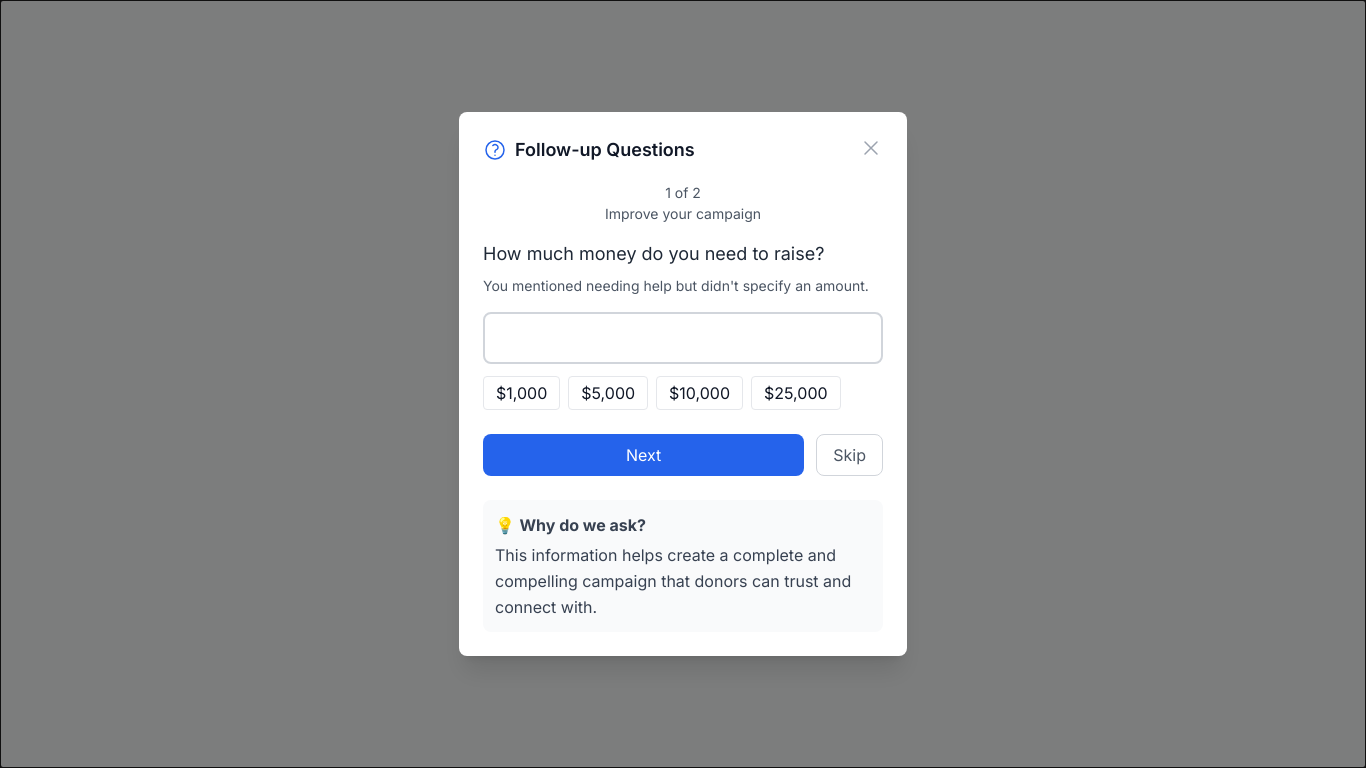
Test: FollowUpQuestionModal Component › Question Navigation › should navigate to next question when answered
Answer first question
Type "5000" into the field at (683, 338), box [483,312,883,364]
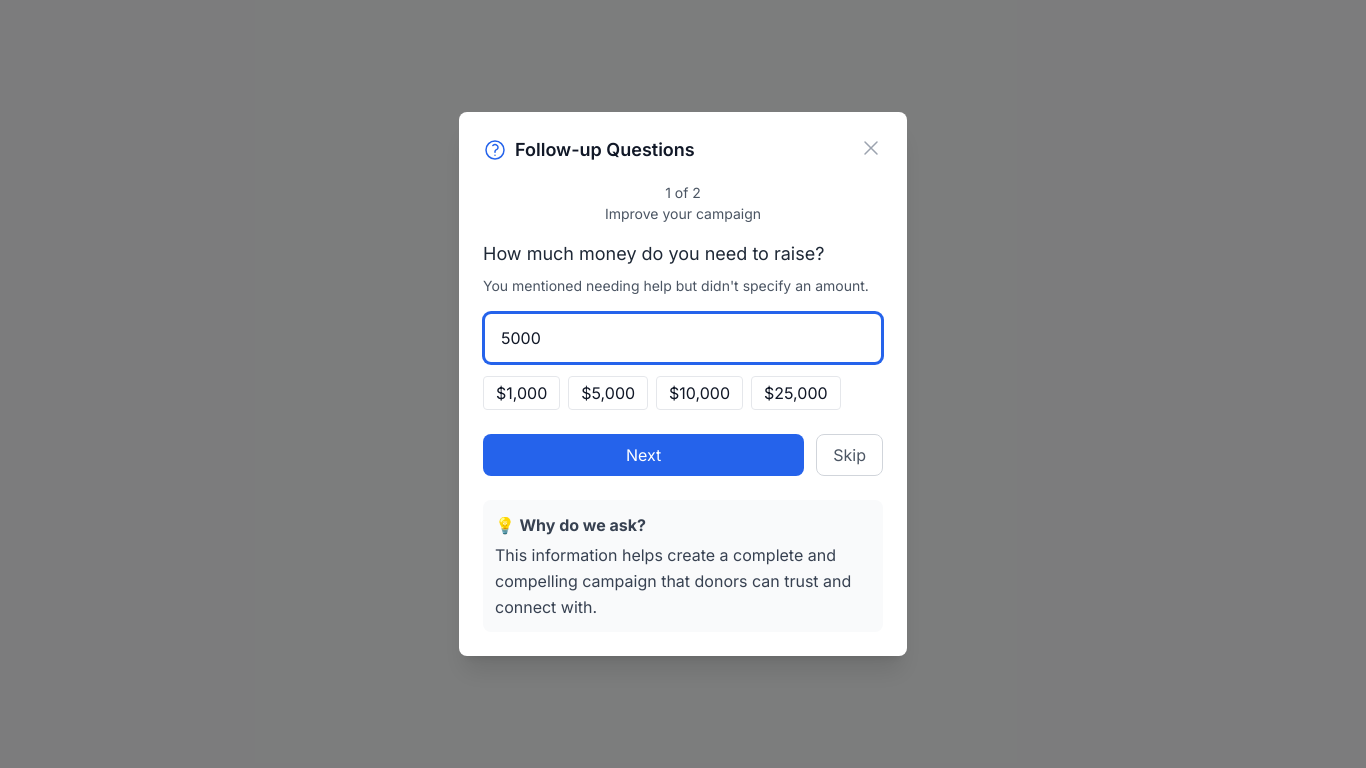
Click the button "Next" at (644, 455), box [483,434,804,476]
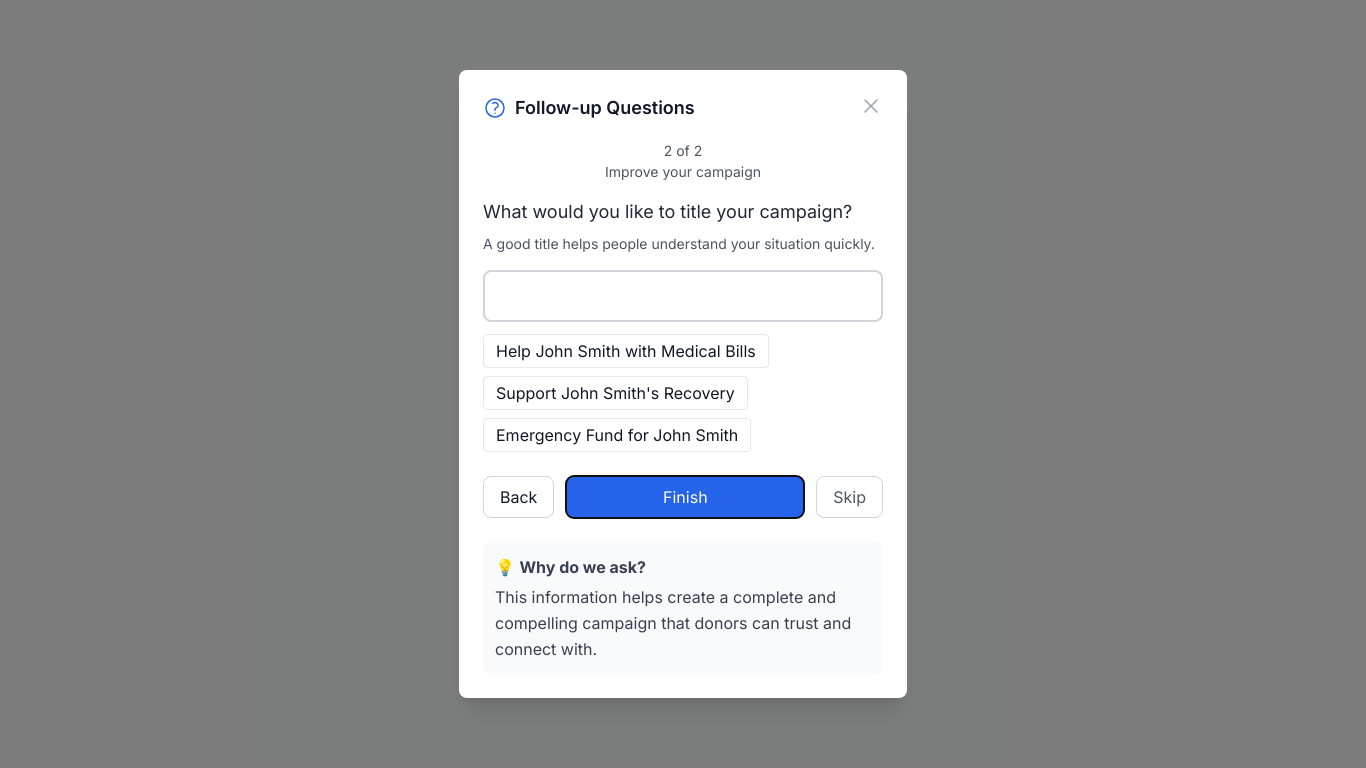
Expected: the text "What would you like to title your campaign?" is shown, [483,198,883,226]
Expected: the text "2 of 2" is shown, [664,142,702,159]
